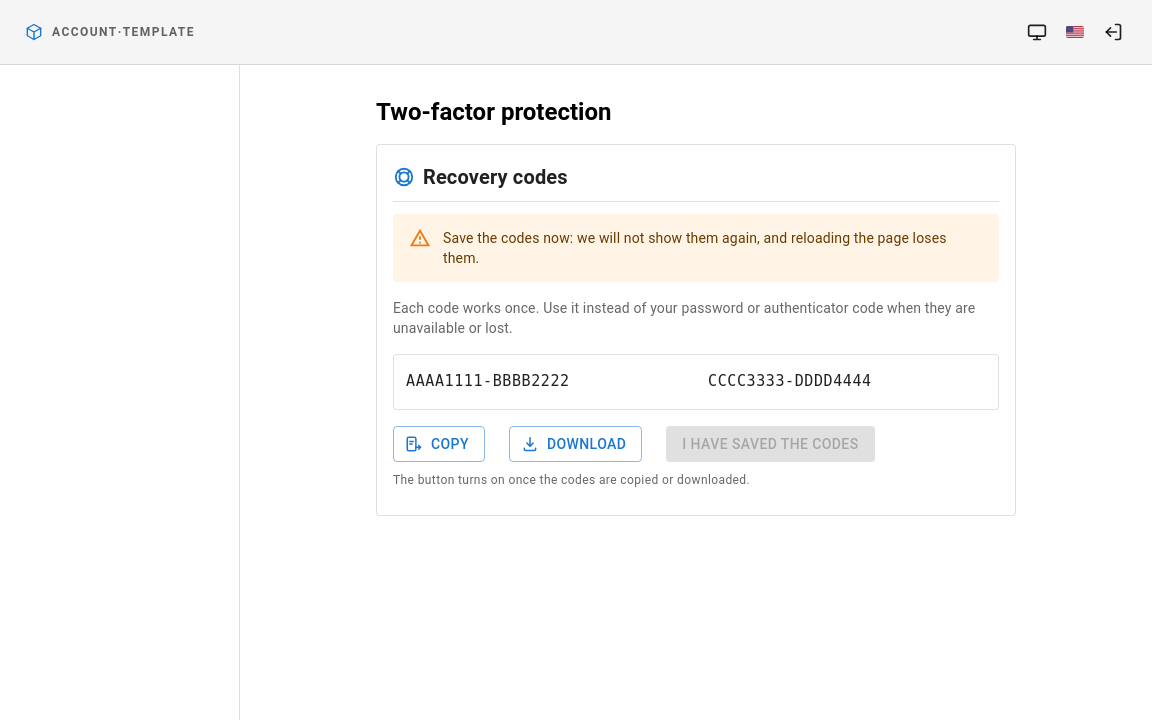
Test case: RecoveryCodesPage › keeps the main button locked until the codes leave the tab
The image size is (1152, 720).
expect the button "I have saved the codes" is disabled: met, box [666, 426, 874, 462]
What coordinates should you click on to do the following:
click the button "Copy"
I would click on:
 (439, 444)
Its box is [393, 426, 485, 462].
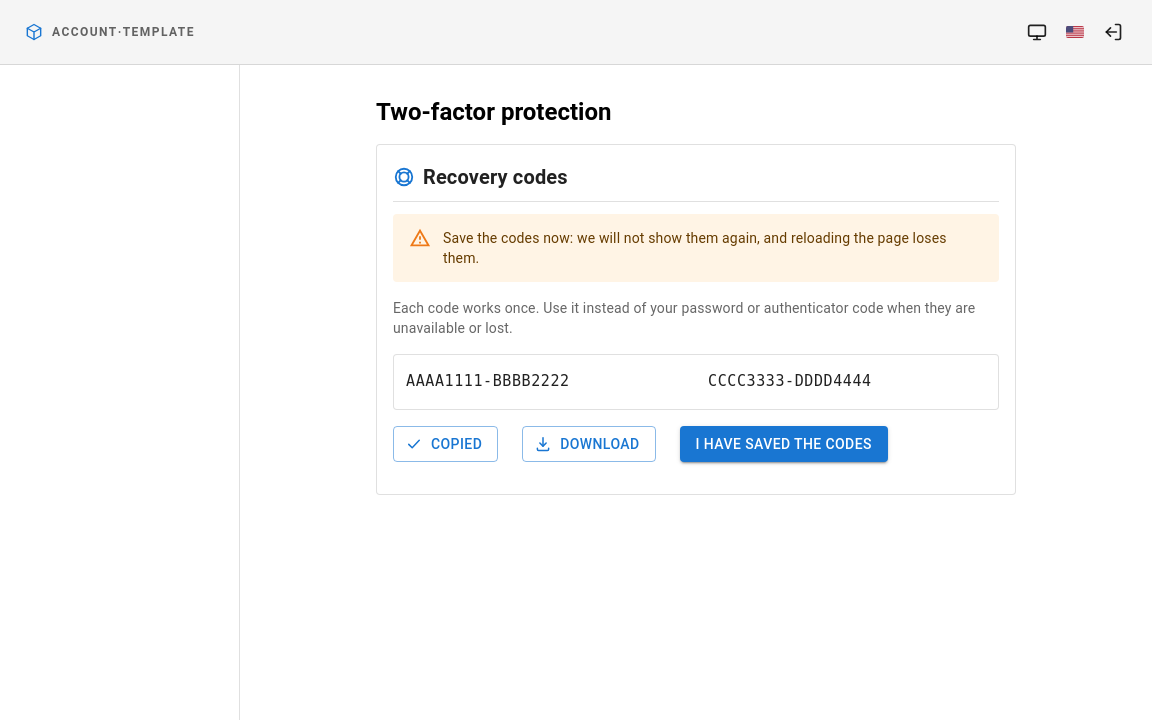
expect the button "I have saved the codes" is enabled: met, box [680, 426, 888, 462]
expect the button "Copied" is shown: met, box [393, 426, 498, 462]
